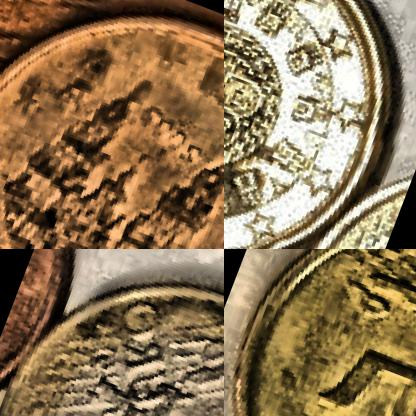coin: (0, 0, 223, 248), (224, 0, 415, 248), (0, 249, 223, 415), (224, 249, 415, 415)
